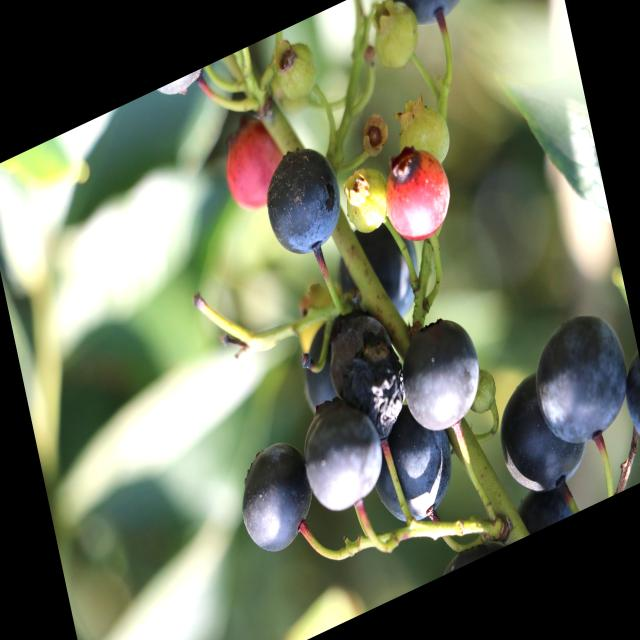blueberry: (517, 290, 640, 466), (350, 379, 470, 551), (315, 198, 439, 361), (483, 349, 598, 517), (289, 371, 398, 532), (386, 295, 496, 451), (252, 125, 358, 278), (225, 420, 326, 572), (325, 317, 421, 469), (315, 291, 410, 408), (288, 317, 354, 423), (504, 464, 582, 542), (375, 0, 491, 52), (608, 339, 640, 469)
blueberry-halfripe: (376, 133, 458, 254), (219, 117, 287, 216)
blueberry-unripe: (391, 94, 459, 184), (362, 0, 426, 79), (340, 156, 394, 242), (271, 35, 323, 111)
